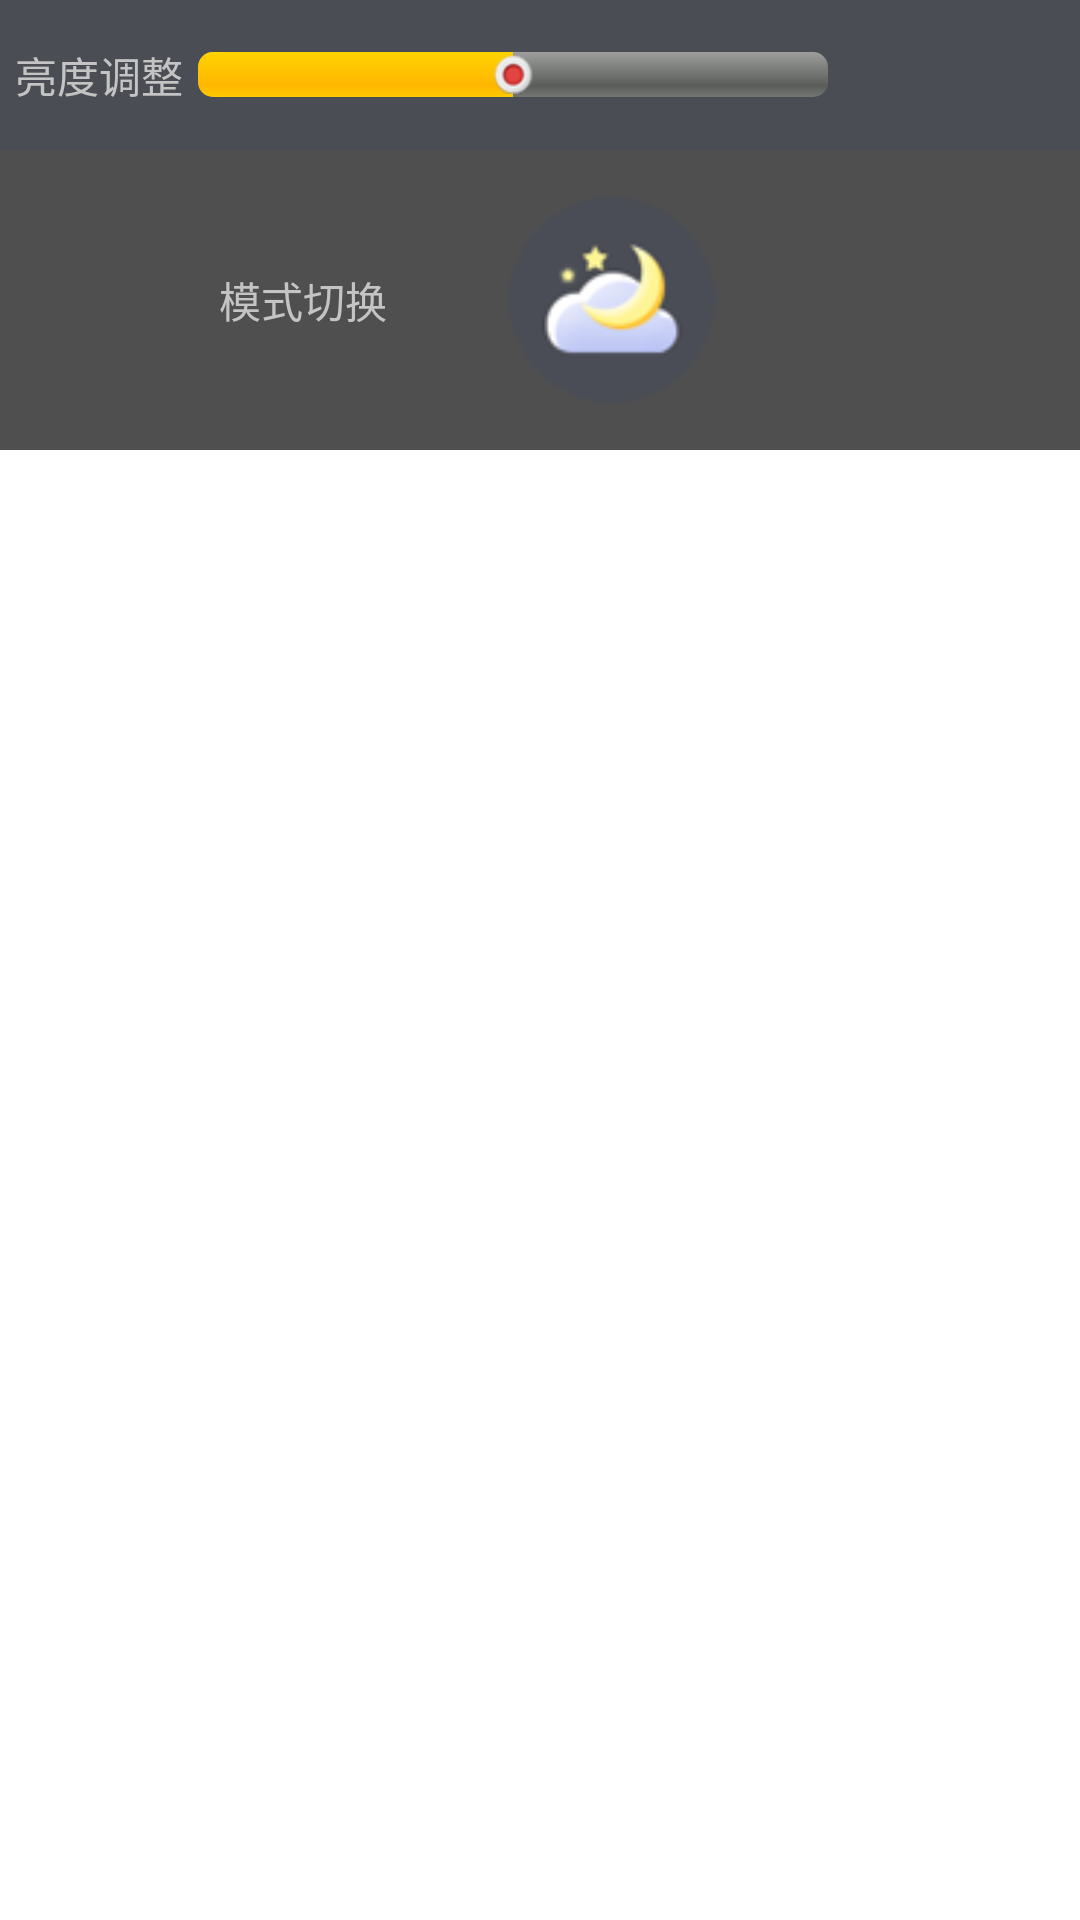

Screen size 1080px×1920px. Icon name, then its center in pixels as [x,y]:
night: [612,299]
